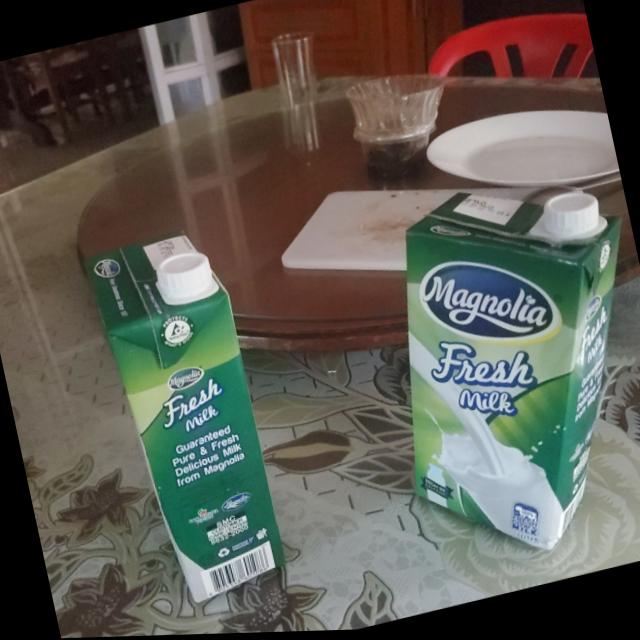milk: (346, 157, 640, 586), (78, 220, 292, 620)
